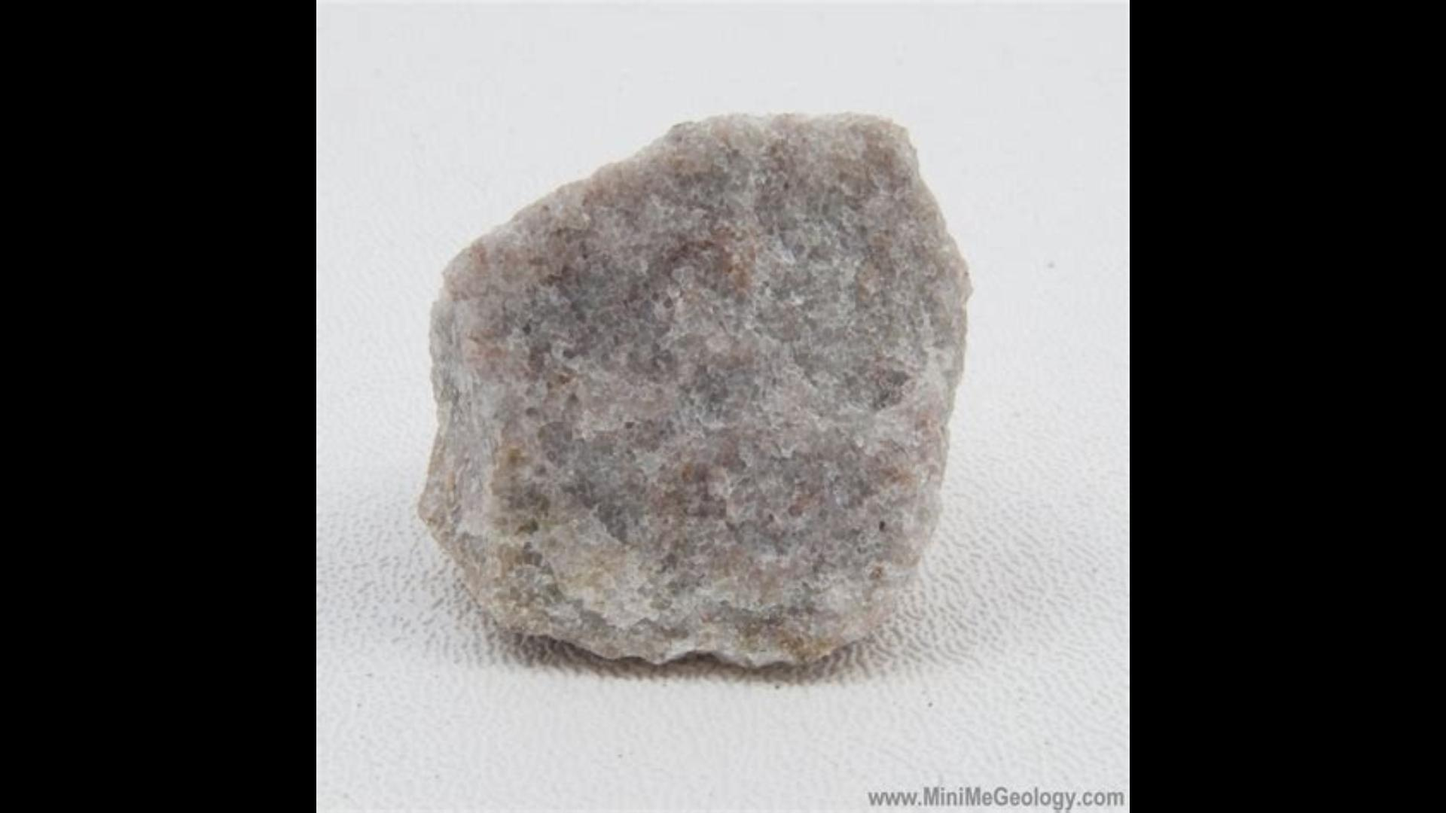rock: (421, 115, 968, 671)
